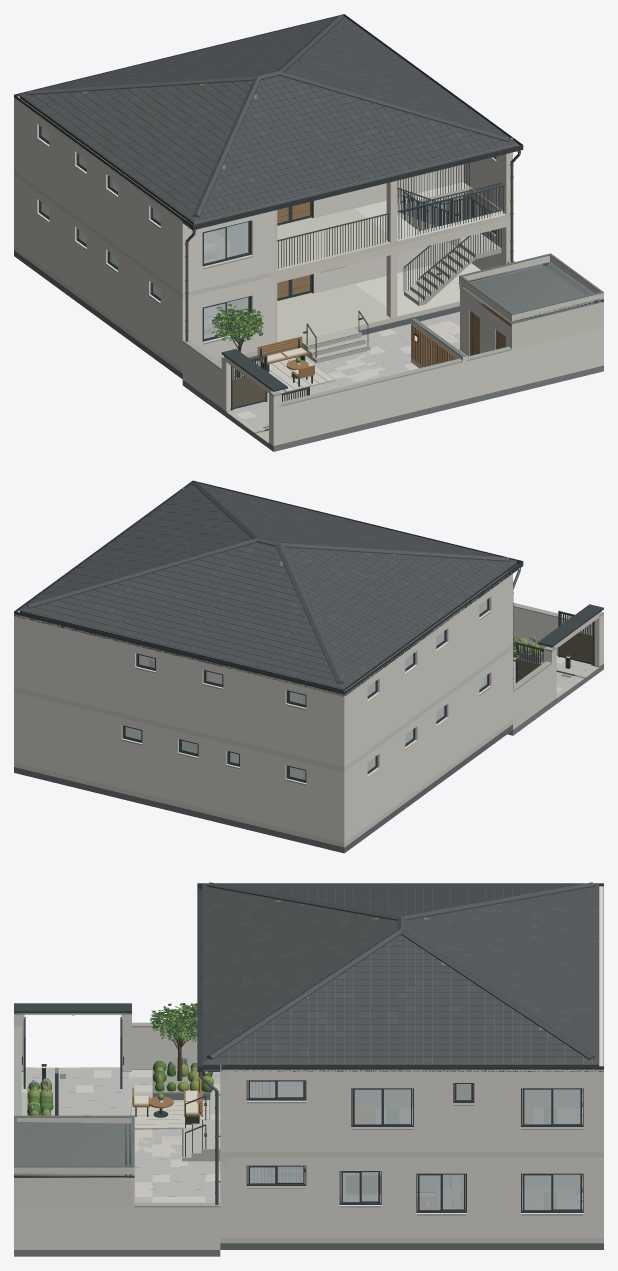
File: house.glb
3 renders of one model, top to bottom at view 1: azimuth 30°, elevation 25°; view 2: azimuth 150°, elevation 25°; view 3: azimuth 270°, elevation 25°, orthographic. The views are drawn at different scales.
Visible parts, largest first — view 1: RoofConcept/roof-assembly, F1/wall/yard-south, F2/wall/west-house, F1/wall/west-house, CourtyardDesign/roof, F2/floor/property-boundary, CourtyardDesign/plaster, F2/room-floor/porch, F1/room-floor/porch, CourtyardDesign/paving, F2/wall/south-master, F1/porch/structure/0 (+28 smaller); view 2: RoofConcept/roof-assembly, F2/wall/north-house, F1/wall/north-house, F2/wall/west-house, F1/wall/west-house, F1/entrance/plinth, F1/floor/property-boundary, F2/floor/property-boundary, F1/wall/yard-west, F1/wall/yard-south, F1/gate/head/1, F1/gate/leaf-1/1 (+4 smaller); view 3: RoofConcept/roof-assembly, F2/wall/east-house, F1/wall/east-house, F1/wall/yard-east, CourtyardDesign/paving, CourtyardDesign/roof, CourtyardDesign/plaster, CourtyardDesign/pavingLight, F1/entrance/plinth, F1/floor/property-boundary, F2/floor/property-boundary, F1/wall/yard-west (+19 smaller).
Boxes of the visible parts, <box> form: RoofConcept/roof-assembly: <box>14,14,523,230</box>; F1/wall/yard-south: <box>270,328,603,445</box>; F2/wall/west-house: <box>14,100,187,293</box>; F1/wall/west-house: <box>14,175,185,366</box>; CourtyardDesign/roof: <box>459,253,603,324</box>; F2/floor/property-boundary: <box>14,170,510,298</box>; CourtyardDesign/plaster: <box>296,255,603,364</box>; F2/room-floor/porch: <box>277,208,397,270</box>; F1/room-floor/porch: <box>277,284,397,341</box>; CourtyardDesign/paving: <box>232,312,467,437</box>; F2/wall/south-master: <box>179,211,272,293</box>; F1/porch/structure/0: <box>270,218,510,342</box>; RoofConcept/roof-assembly: <box>14,480,523,696</box>; F2/wall/north-house: <box>19,618,347,766</box>; F1/wall/north-house: <box>19,693,347,841</box>; F2/wall/west-house: <box>339,574,512,767</box>; F1/wall/west-house: <box>339,652,512,842</box>; F1/entrance/plinth: <box>14,724,512,853</box>; F1/floor/property-boundary: <box>14,720,512,847</box>; F2/floor/property-boundary: <box>14,644,512,772</box>; F1/wall/yard-west: <box>513,664,551,729</box>; F1/wall/yard-south: <box>513,607,603,664</box>; F1/gate/head/1: <box>537,604,603,647</box>; F1/gate/leaf-1/1: <box>560,632,592,662</box>; RoofConcept/roof-assembly: <box>197,882,603,1073</box>; F2/wall/east-house: <box>220,1072,603,1152</box>; F1/wall/east-house: <box>220,1157,603,1237</box>; F1/wall/yard-east: <box>14,1207,220,1249</box>; CourtyardDesign/paving: <box>21,1070,219,1202</box>; CourtyardDesign/roof: <box>14,1115,134,1177</box>; CourtyardDesign/plaster: <box>14,1100,162,1207</box>; CourtyardDesign/pavingLight: <box>21,1070,219,1202</box>; F1/entrance/plinth: <box>220,1243,603,1249</box>; F1/floor/property-boundary: <box>220,1174,603,1243</box>; F2/floor/property-boundary: <box>221,1089,603,1157</box>; F1/wall/yard-west: <box>132,1027,197,1069</box>.
Bounding box in the file's own units: 14.7 × 9.07 × 20.
